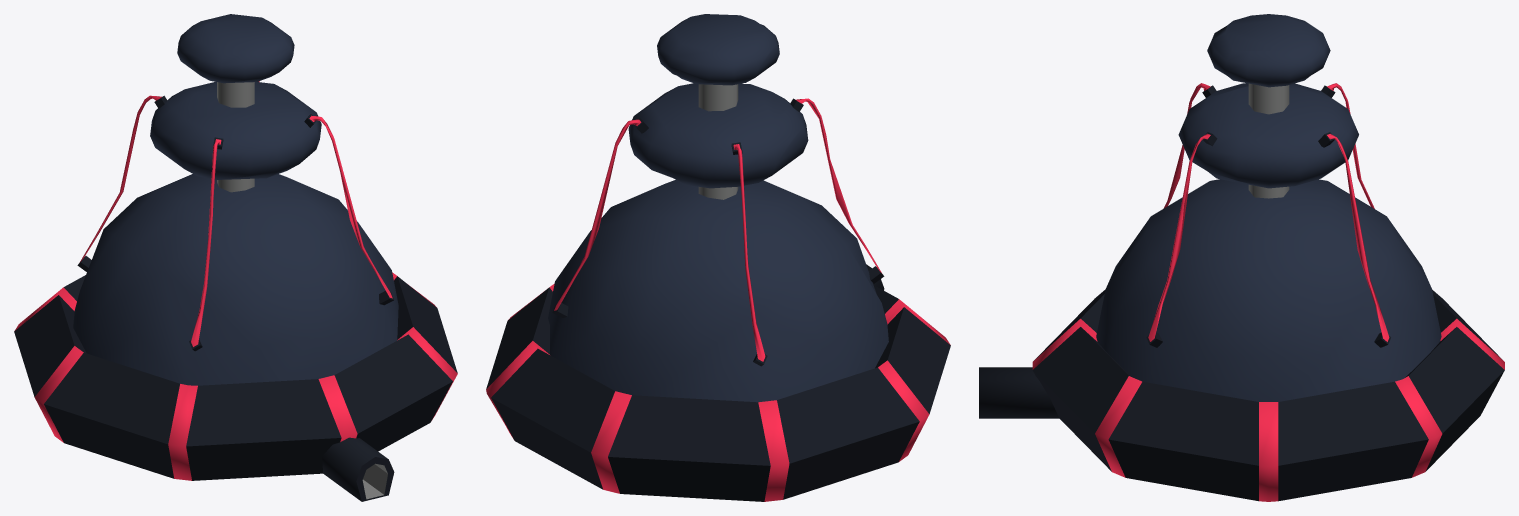
File: building 2_LOD_2.fbx
The picture shows the model from 3 angles, left to right: view 1: azimuth 30°, elevation 25°; view 2: azimuth 150°, elevation 25°; view 3: azimuth 270°, elevation 25°; orthographic projection. The views are drawn at different scales.
Parts seen in each view (by area): view 1: Cylinder.001; view 2: Cylinder.001; view 3: Cylinder.001.
Part boxes in pixels (x1,y1,x2,y2): Cylinder.001: (14,14,457,501); Cylinder.001: (486,14,950,501); Cylinder.001: (979,14,1504,501).
Size of the model in its own units: 2334 by 2085 by 2589.
